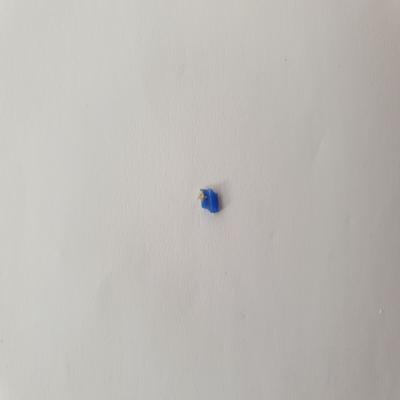plastic: (196, 186, 225, 215)
